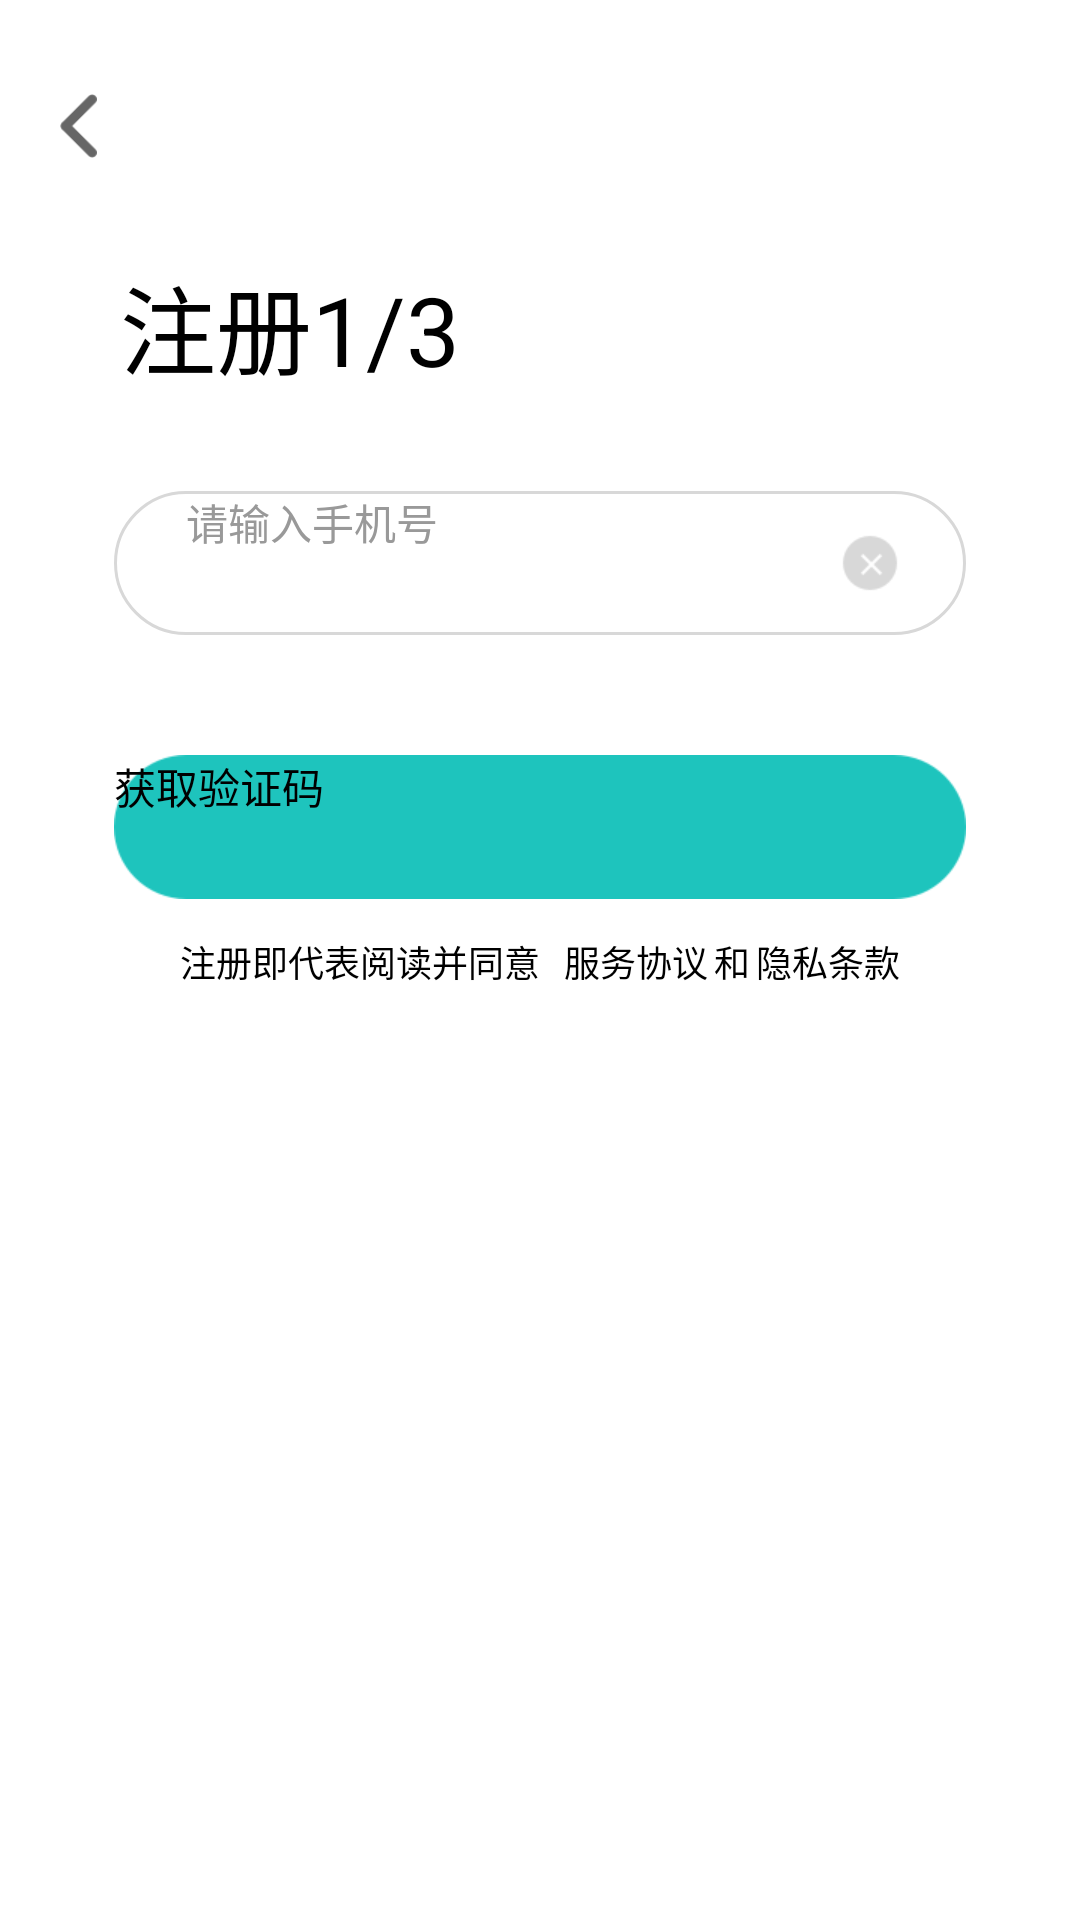

Named icons in this screenshot (1080w x 1920h) and their bounding boxes, {"left": x1, "top": y1, "right": x2, "bottom": y2}:
back register: {"left": 60, "top": 94, "right": 97, "bottom": 158}
dele: {"left": 843, "top": 536, "right": 897, "bottom": 590}
